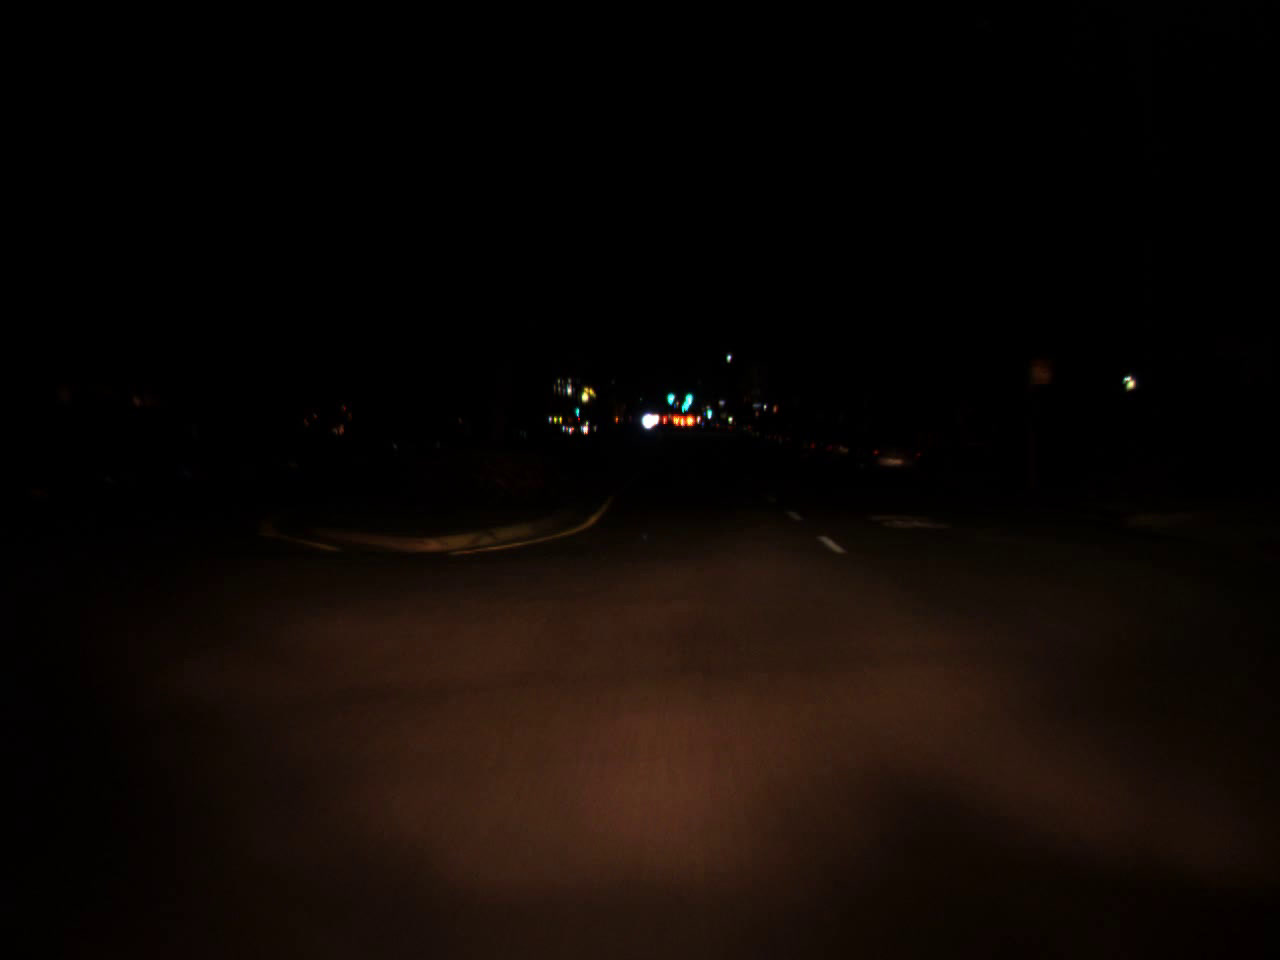go: (680, 382, 694, 406), (665, 381, 675, 408), (571, 399, 581, 417), (706, 401, 713, 419)
